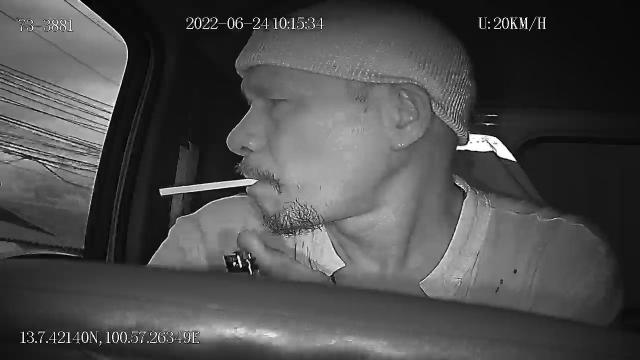Cigarette: (158, 173, 262, 196)
